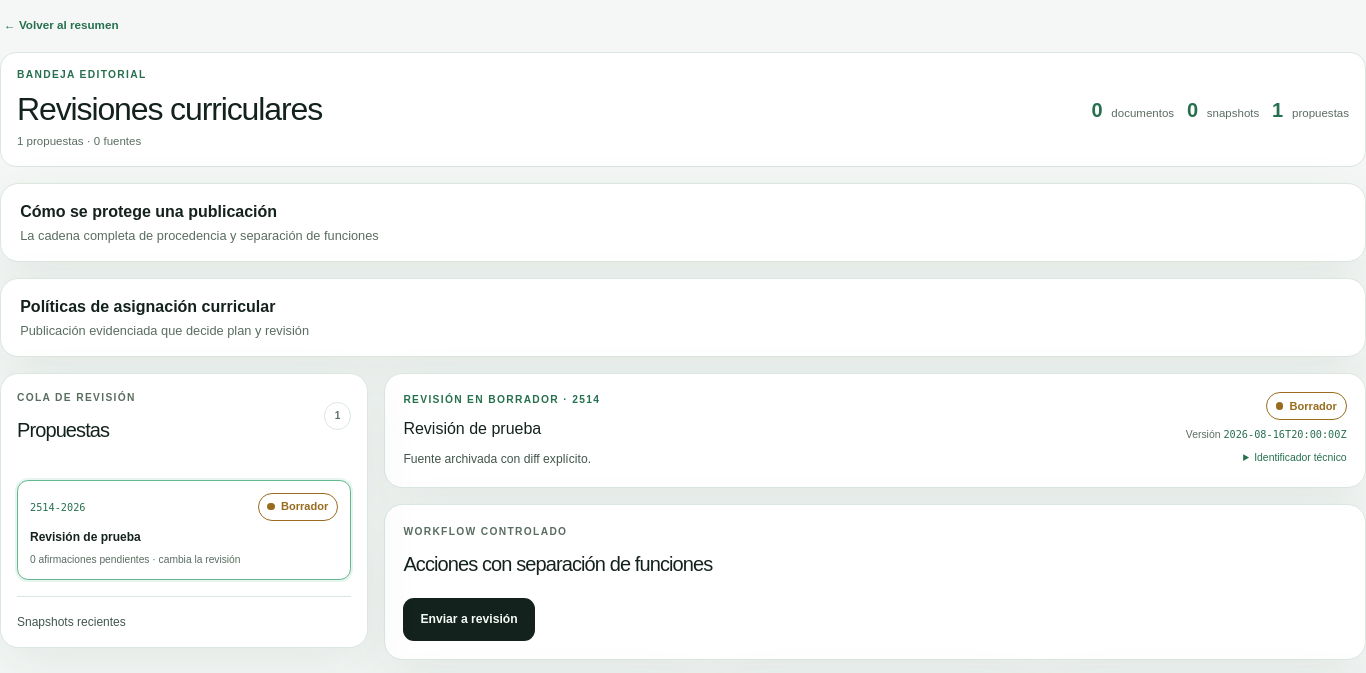
Test case: governance backoffice › submits a draft assignment policy and exposes the sealed review package
Click the text "Políticas de asignación curricular" at [148, 307], box [20,298,275,315]
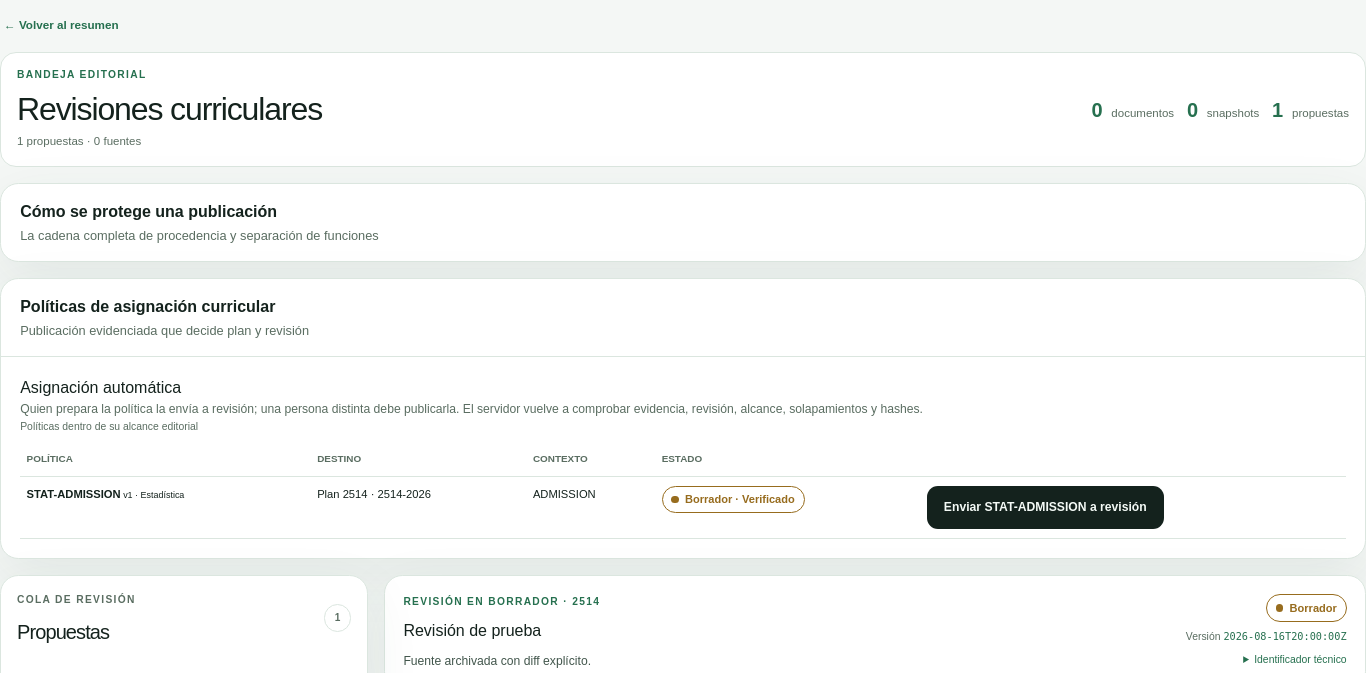
Check: the text "STAT-ADMISSION" is shown, box [27,488,121,500]
Click the button "Enviar STAT-ADMISSION a revisión" at [1045, 507], box [927,486,1164,529]
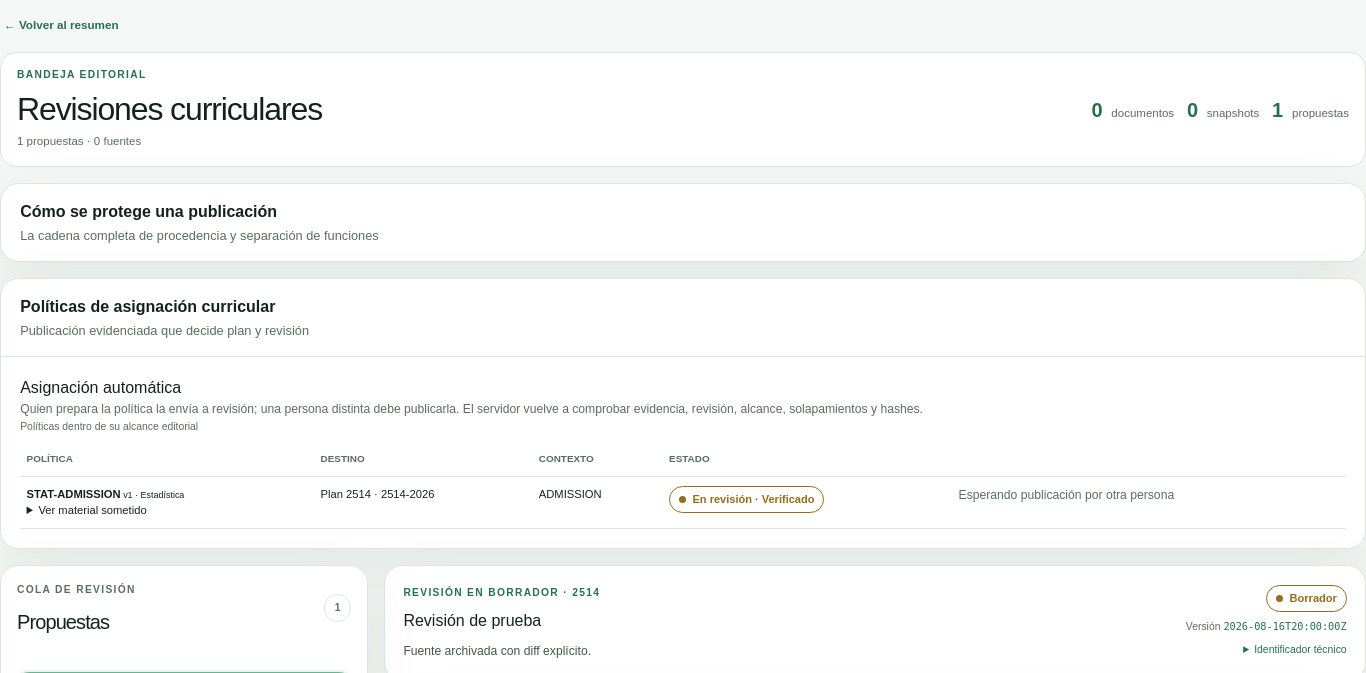
Check: the heading "Ver material sometido" is shown
Click the heading "Ver material sometido" at [92, 510], box [38,504,147,516]
(page scrolled)
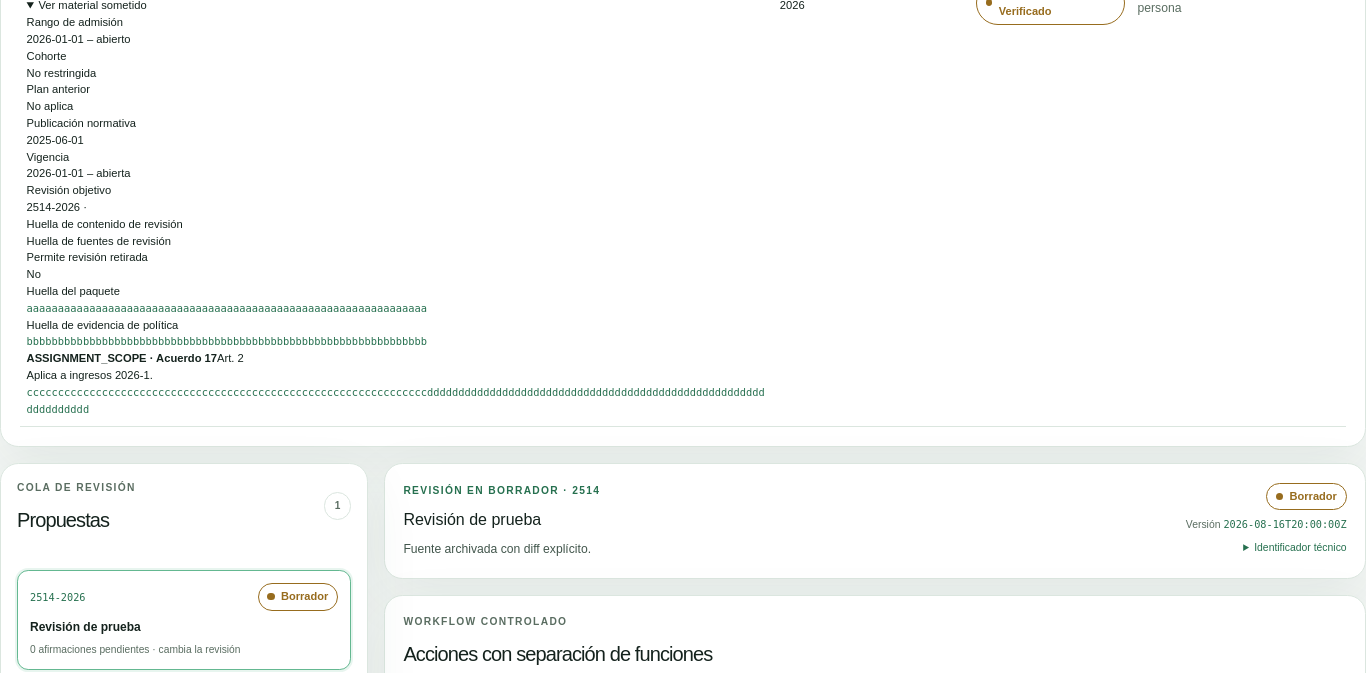
Check: the text "Aplica a ingresos 2026-1." is shown, box [27,369,153,381]
